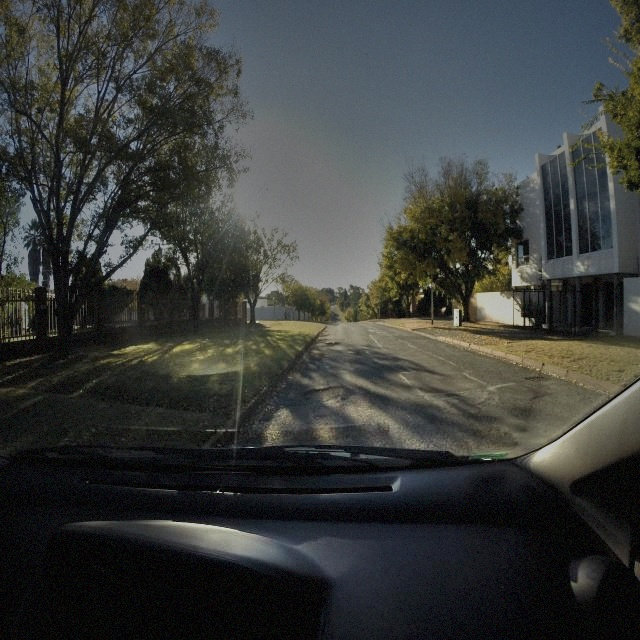pothole: (300, 388, 354, 403), (484, 431, 519, 451), (467, 414, 497, 428), (525, 374, 549, 385), (480, 396, 497, 406), (328, 340, 340, 348)
